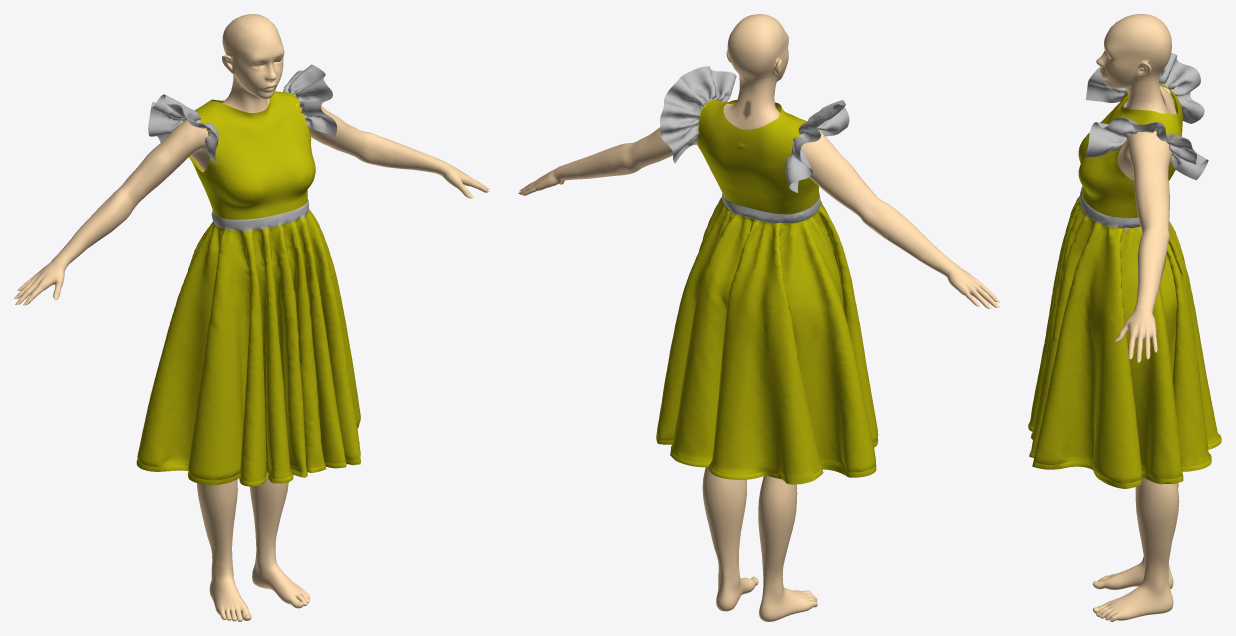
Rendered from dress10.glb.
3 views of the same model, side by side, from view 1: azimuth 30°, elevation 25°; view 2: azimuth 150°, elevation 25°; view 3: azimuth 270°, elevation 25° (orthographic).
Visible parts, largest first — view 1: PinkDrees#14 (OBJ), Body; view 2: PinkDrees#14 (OBJ), Body; view 3: PinkDrees#14 (OBJ), Body.
Boxes of the visible parts, x1,y1,x2,y2 form: PinkDrees#14 (OBJ): (136,64,360,486); Body: (16,14,489,621); PinkDrees#14 (OBJ): (656,66,878,484); Body: (519,14,996,621); PinkDrees#14 (OBJ): (1028,52,1221,488); Body: (1093,14,1179,621).
Bounding box in the file's own units: 1.58 × 1.85 × 0.5546.
